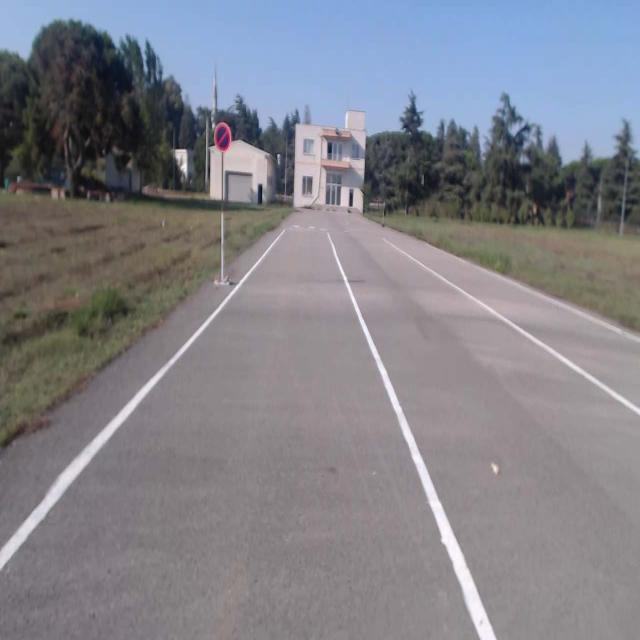parkyasak: (213, 123, 231, 151)
